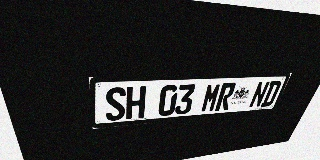0: (157, 85, 179, 116)
3: (174, 84, 196, 115)
D: (260, 81, 283, 107)
H: (126, 86, 146, 119)
M: (200, 83, 222, 113)
N: (248, 81, 271, 108)
R: (215, 82, 237, 111)
S: (105, 87, 126, 121)
